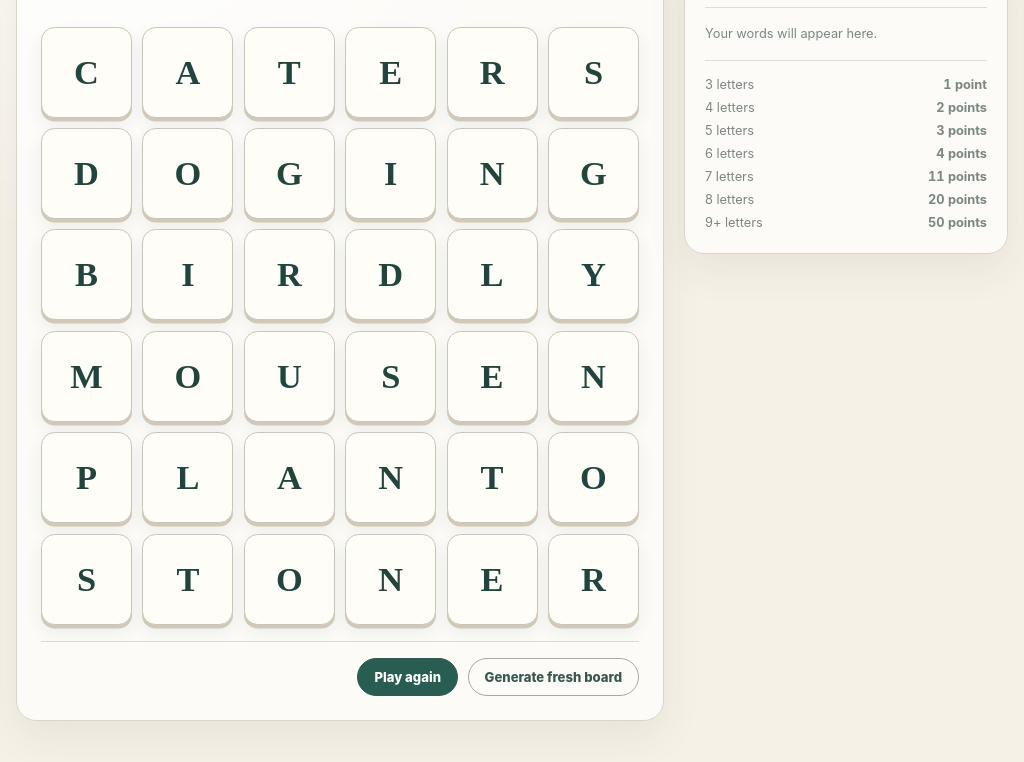
Test: App › keeps the current round when fresh-board generation fails
(page scrolled)
Click the button "Generate fresh board": (553, 677) 468,658 -> 639,696
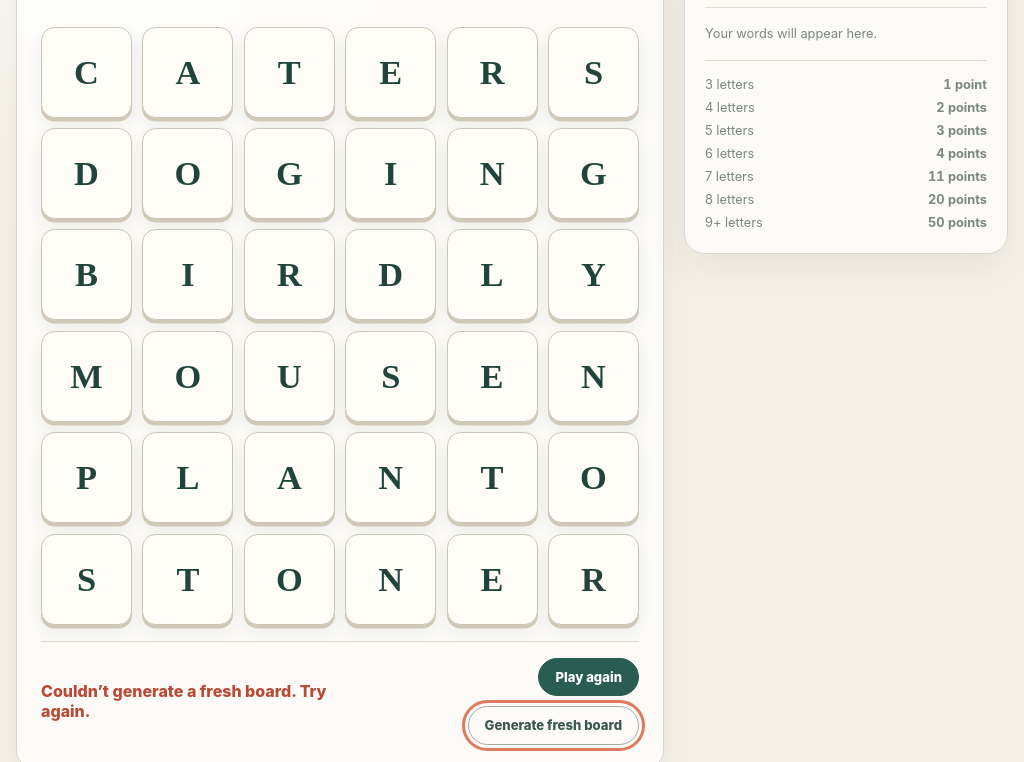
Expected: the button "Generate fresh board" is enabled, 468,706 -> 639,745
Result: the text "Couldn’t generate a fresh board. Try again." is shown at 41,681 -> 359,721
Click the button "Play again": (589, 677) 538,658 -> 639,696
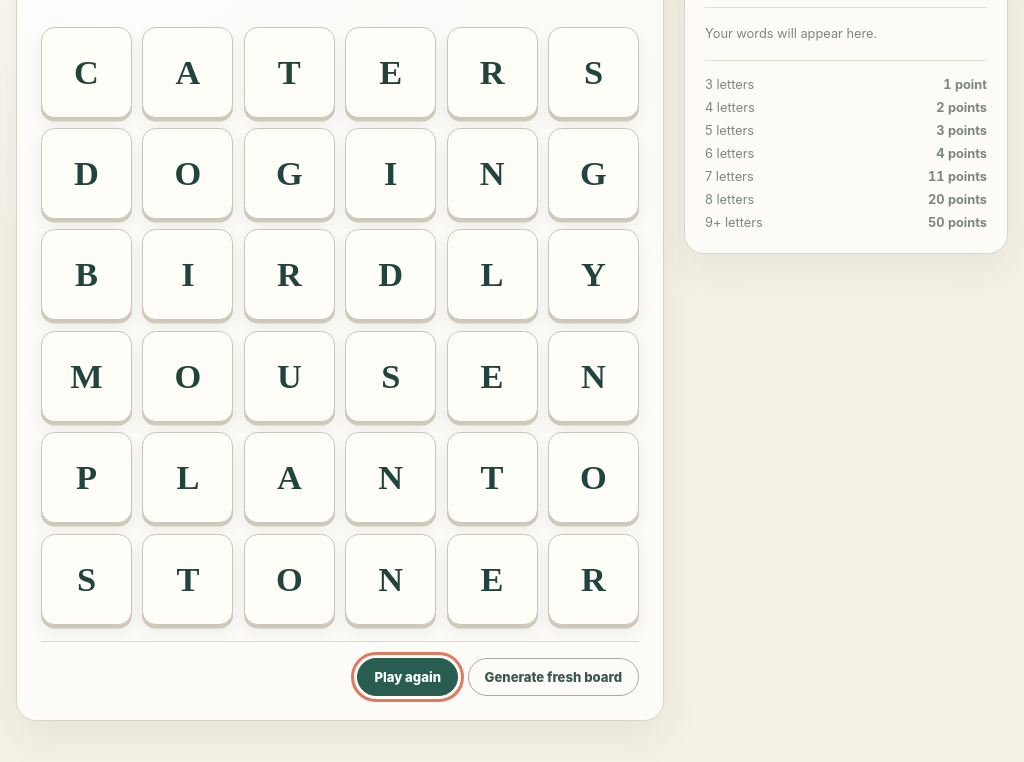
Result: the text "Couldn’t generate a fresh board. Try again." is gone
